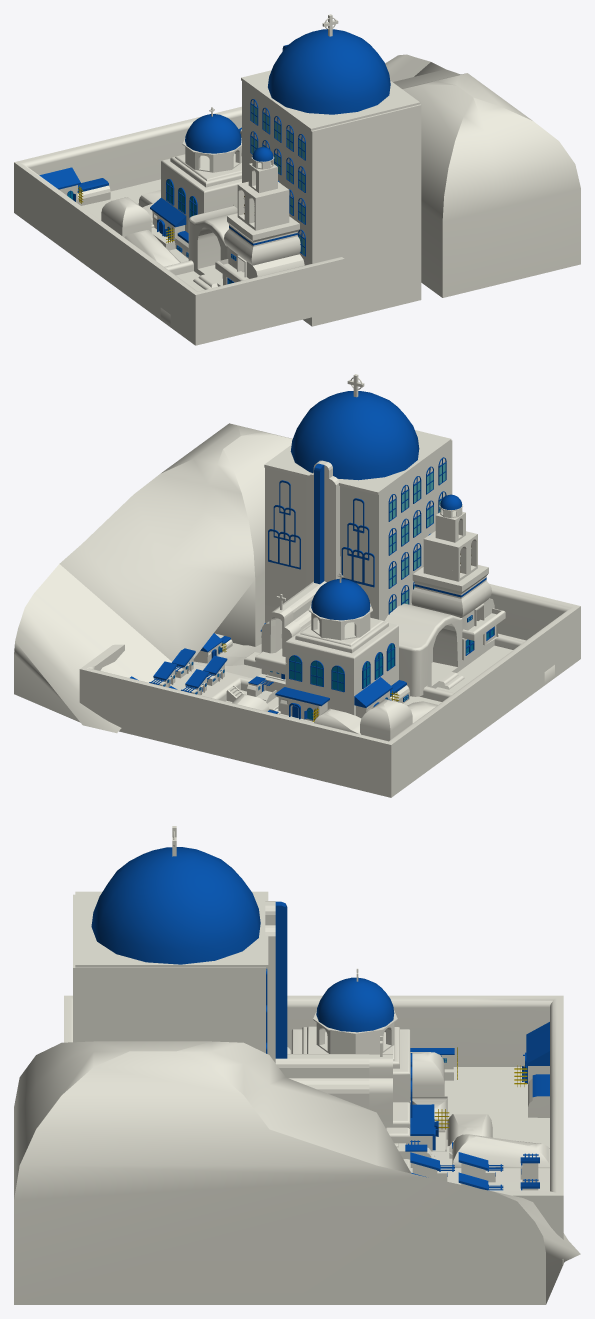
File: Env_01.fbx
The picture shows the model from 3 angles, top to bottom: view 1: azimuth 30°, elevation 25°; view 2: azimuth 150°, elevation 25°; view 3: azimuth 270°, elevation 25°; orthographic projection. The views are drawn at different scales.
Parts seen in each view (by area): view 1: polySurface2; view 2: polySurface2; view 3: polySurface2.
Part boxes in pixels (left/top/right/bottom): polySurface2: left=14, top=14, right=580, bottom=345; polySurface2: left=14, top=374, right=580, bottom=797; polySurface2: left=14, top=826, right=580, bottom=1304.
Bounding box in the file's own units: 1906 × 1343 × 1851.
